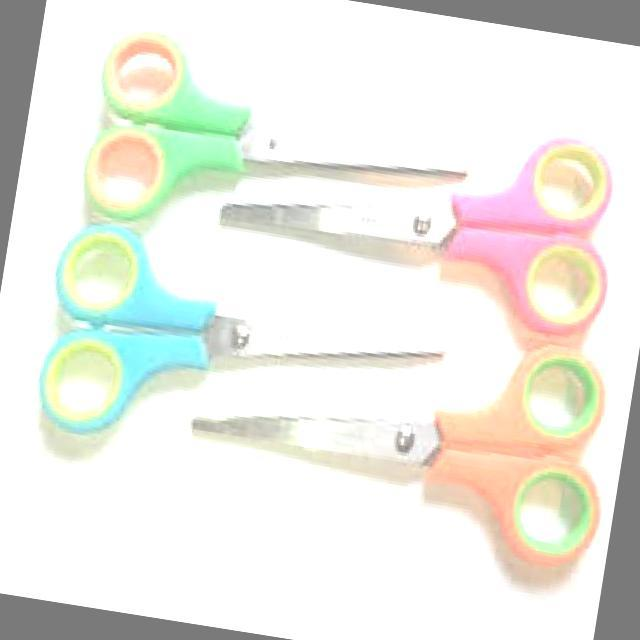Scissors: (170, 285, 630, 624), (14, 208, 468, 528), (197, 76, 640, 357), (59, 12, 480, 292)
